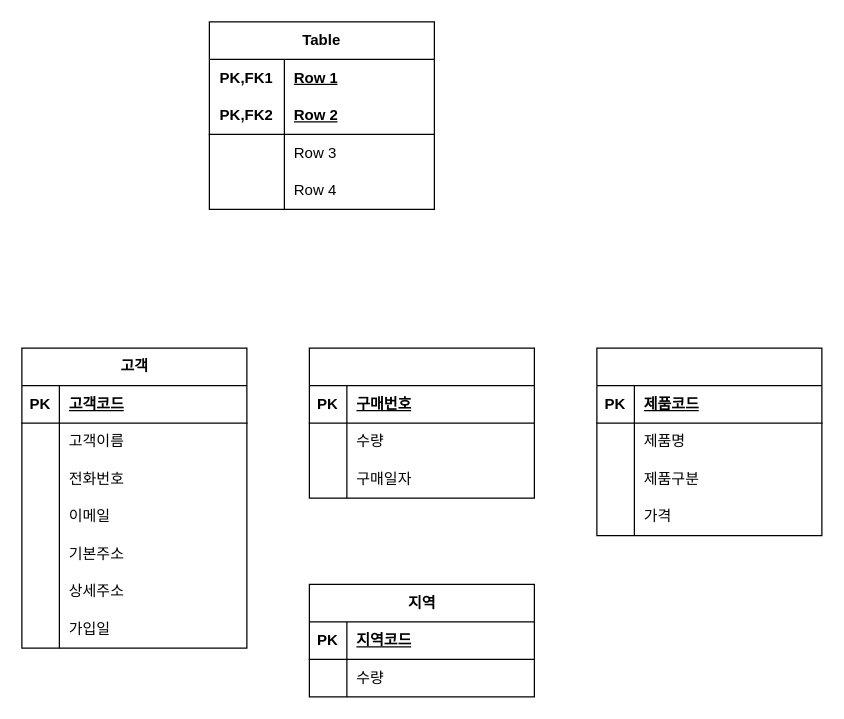
Image size: 844x719. Some labels were removed from this diagram. The box of each missing label's shape, as (x1, y1, x2, y2) in pixels:
구매: (308, 347, 534, 498)
제품: (596, 347, 822, 536)
